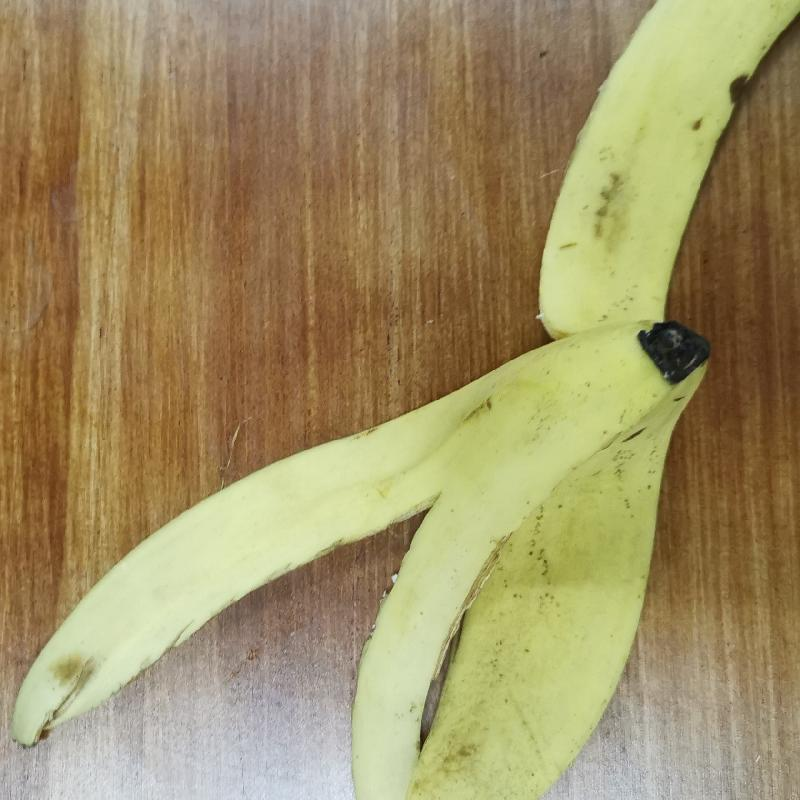bananas: (23, 2, 800, 799)
